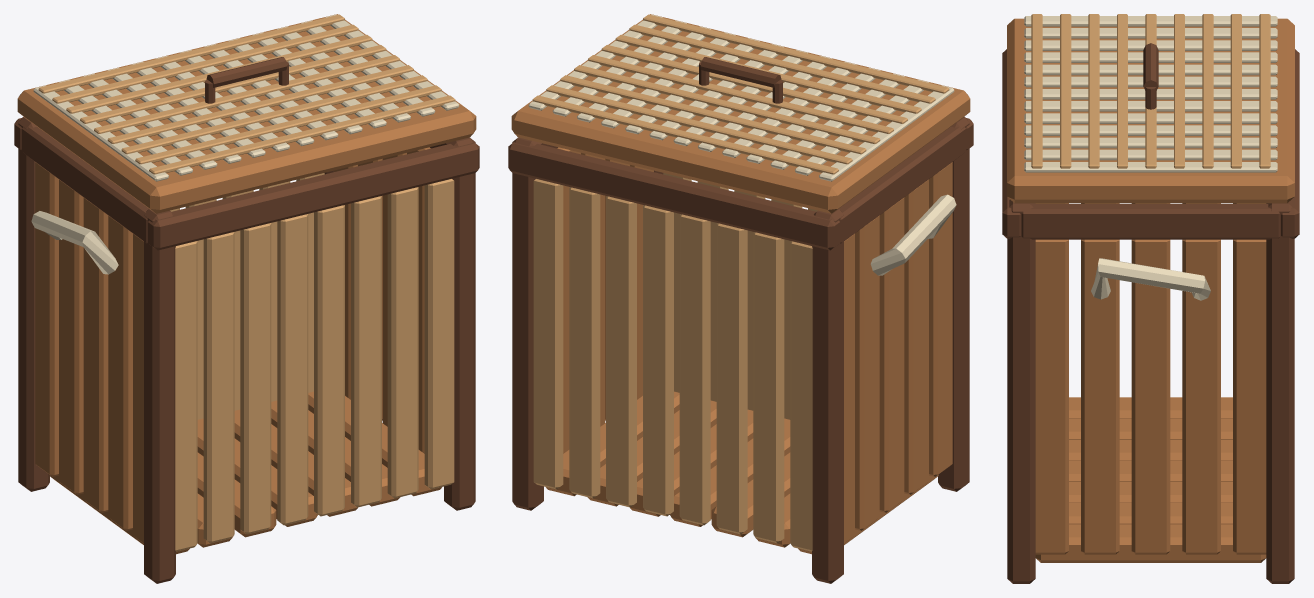
File: 027_slatted_laundry_hamper_v02.glb
3 views of the same model, side by side, from view 1: azimuth 30°, elevation 25°; view 2: azimuth 150°, elevation 25°; view 3: azimuth 270°, elevation 25° (orthographic). The views are drawn at different scales.
Visible parts, largest first — view 1: Lid panel, Hamper structural rim.001, Hamper corner stile.001, Bamboo front rear slat.009, Bamboo front rear slat.010, Bamboo front rear slat.011, Bamboo front rear slat.014, Bamboo front rear slat.012, Bamboo front rear slat.013, Bamboo front rear slat.015, Hamper corner stile.003, Bamboo side slat.003 (+43 smaller); view 2: Lid panel, Hamper structural rim, Hamper corner stile, Bamboo front rear slat.001, Bamboo front rear slat.002, Bamboo front rear slat.003, Bamboo front rear slat.006, Bamboo front rear slat.004, Bamboo front rear slat.005, Bamboo front rear slat.007, Hamper corner stile.002, Bamboo side slat.001 (+43 smaller); view 3: Lid panel, Bamboo side slat.007, Bamboo side slat.006, Bamboo side slat.008, Bamboo side slat.005, Bamboo side slat.009, Hamper corner stile.002, Hamper corner stile.003, Hamper rim end.001, Ventilated base plank6, Side carry handle.001, Lid weave strip.012 (+30 smaller).
Part boxes in pixels (x1=…): Lid panel: x1=17, y1=14, x2=476, y2=213; Hamper structural rim.001: x1=148, y1=142, x2=479, y2=250; Hamper corner stile.001: x1=144, y1=209, x2=175, y2=583; Bamboo front rear slat.009: x1=203, y1=232, x2=234, y2=543; Bamboo front rear slat.010: x1=240, y1=223, x2=271, y2=534; Bamboo front rear slat.011: x1=277, y1=214, x2=308, y2=525; Bamboo front rear slat.014: x1=387, y1=187, x2=418, y2=498; Bamboo front rear slat.012: x1=314, y1=205, x2=344, y2=516; Bamboo front rear slat.013: x1=351, y1=196, x2=381, y2=507; Bamboo front rear slat.015: x1=424, y1=179, x2=454, y2=489; Hamper corner stile.003: x1=444, y1=137, x2=475, y2=510; Bamboo side slat.003: x1=108, y1=215, x2=132, y2=530; Lid panel: x1=511, y1=14, x2=970, y2=213; Hamper structural rim: x1=508, y1=142, x2=839, y2=250; Hamper corner stile: x1=812, y1=209, x2=843, y2=583; Bamboo front rear slat.001: x1=753, y1=232, x2=784, y2=543; Bamboo front rear slat.002: x1=716, y1=223, x2=747, y2=534; Bamboo front rear slat.003: x1=679, y1=214, x2=710, y2=525; Bamboo front rear slat.006: x1=569, y1=187, x2=600, y2=498; Bamboo front rear slat.004: x1=643, y1=205, x2=673, y2=516; Bamboo front rear slat.005: x1=606, y1=196, x2=636, y2=507; Bamboo front rear slat.007: x1=533, y1=179, x2=563, y2=489; Hamper corner stile.002: x1=512, y1=137, x2=543, y2=510; Bamboo side slat.001: x1=855, y1=215, x2=879, y2=530; Lid panel: x1=1007, y1=18, x2=1294, y2=203; Bamboo side slat.007: x1=1131, y1=239, x2=1170, y2=554; Bamboo side slat.006: x1=1182, y1=239, x2=1220, y2=554; Bamboo side slat.008: x1=1081, y1=239, x2=1119, y2=554; Bamboo side slat.005: x1=1233, y1=239, x2=1266, y2=554; Bamboo side slat.009: x1=1035, y1=239, x2=1068, y2=554; Hamper corner stile.002: x1=1266, y1=199, x2=1294, y2=583; Hamper corner stile.003: x1=1007, y1=199, x2=1035, y2=583; Hamper rim end.001: x1=1021, y1=204, x2=1280, y2=239; Ventilated base plank6: x1=1035, y1=524, x2=1266, y2=562; Side carry handle.001: x1=1091, y1=258, x2=1210, y2=300; Lid weave strip.012: x1=1024, y1=162, x2=1277, y2=172.
Bounding box in the file's own units: 0.7226 × 0.782 × 0.475.
